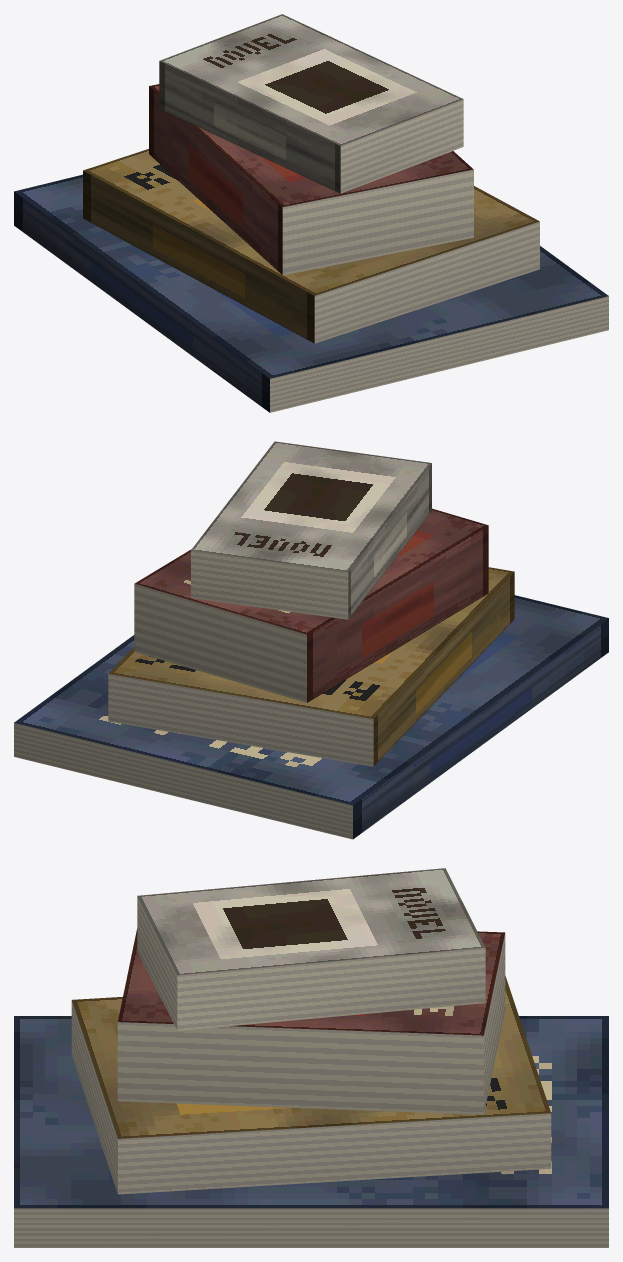
The model's file is book_stack.glb.
The picture shows the model from 3 angles, top to bottom: view 1: azimuth 30°, elevation 25°; view 2: azimuth 150°, elevation 25°; view 3: azimuth 270°, elevation 25°; orthographic projection. The views are drawn at different scales.
Visible parts, largest first — view 1: book_stack; view 2: book_stack; view 3: book_stack.
Boxes of the visible parts, x1,y1,x2,y2 form: book_stack: (14,14,608,412); book_stack: (14,441,608,839); book_stack: (14,868,608,1247).
Size of the model in its own units: 0.26 by 0.145 by 0.34.
Materials: 1 (1 with a texture image).
